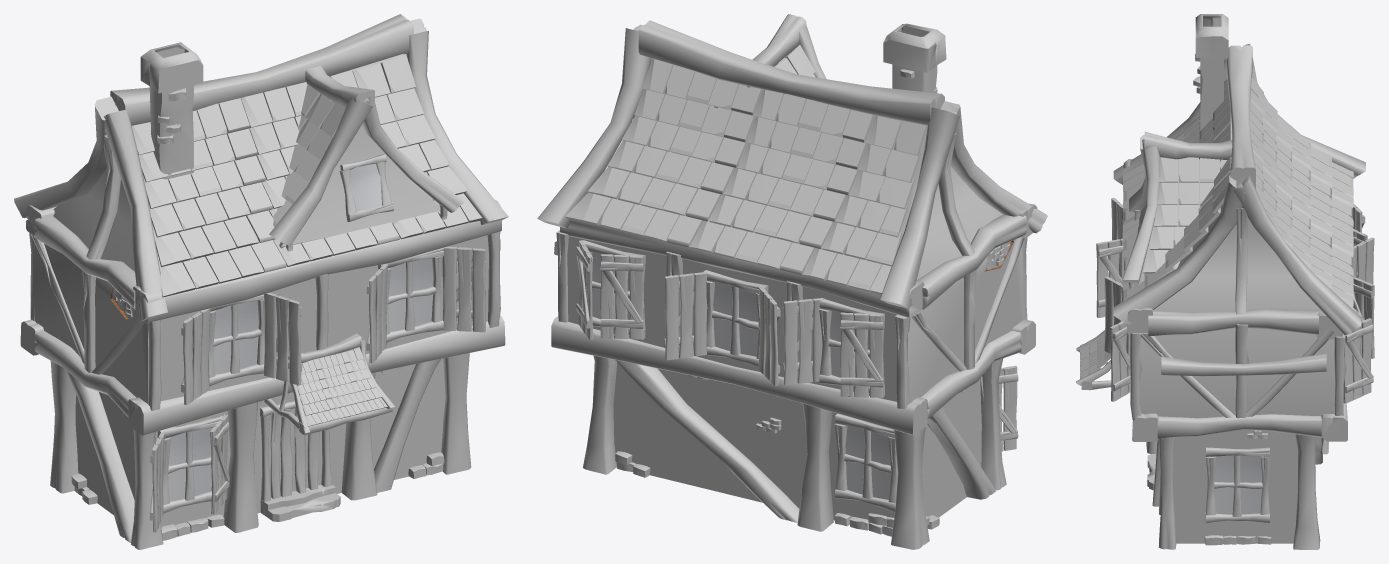
The model's file is CasaCuatro.fbx.
3 renders of one model, left to right at view 1: azimuth 30°, elevation 25°; view 2: azimuth 150°, elevation 25°; view 3: azimuth 270°, elevation 25°, orthographic. The views are drawn at different scales.
Visible parts, largest first — view 1: Object079; view 2: Object079; view 3: Object079.
Boxes of the visible parts, x1=… form: Object079: x1=14, y1=14, x2=508, y2=549; Object079: x1=537, y1=14, x2=1047, y2=549; Object079: x1=1076, y1=14, x2=1374, y2=549.
Size of the model in its own units: 2.75 by 3.21 by 2.11.
